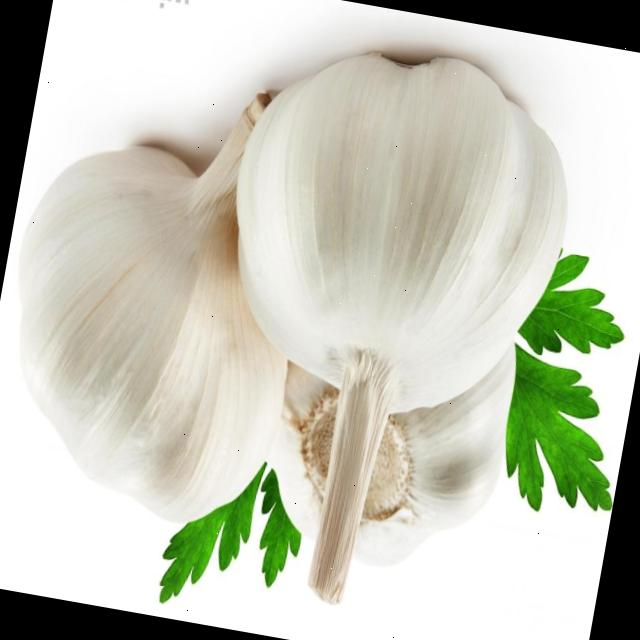garlic: (237, 55, 565, 602), (19, 95, 286, 522), (353, 345, 515, 565), (268, 363, 338, 539)
